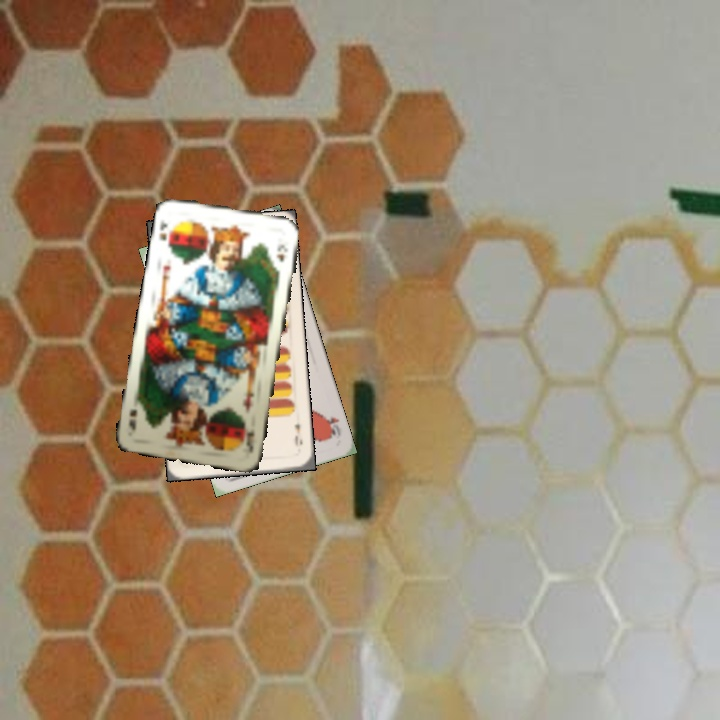E9: (290, 419, 305, 449)
HO: (320, 412, 344, 440)
SK: (156, 216, 176, 249), (242, 425, 257, 455)
